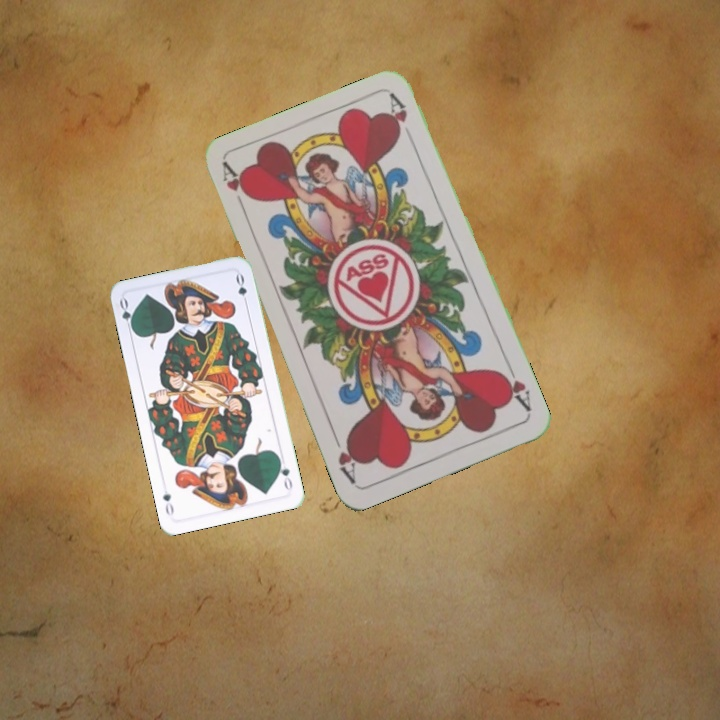GO: (115, 295, 137, 335), (275, 454, 295, 493)
HA: (495, 359, 534, 415), (218, 160, 254, 217)
